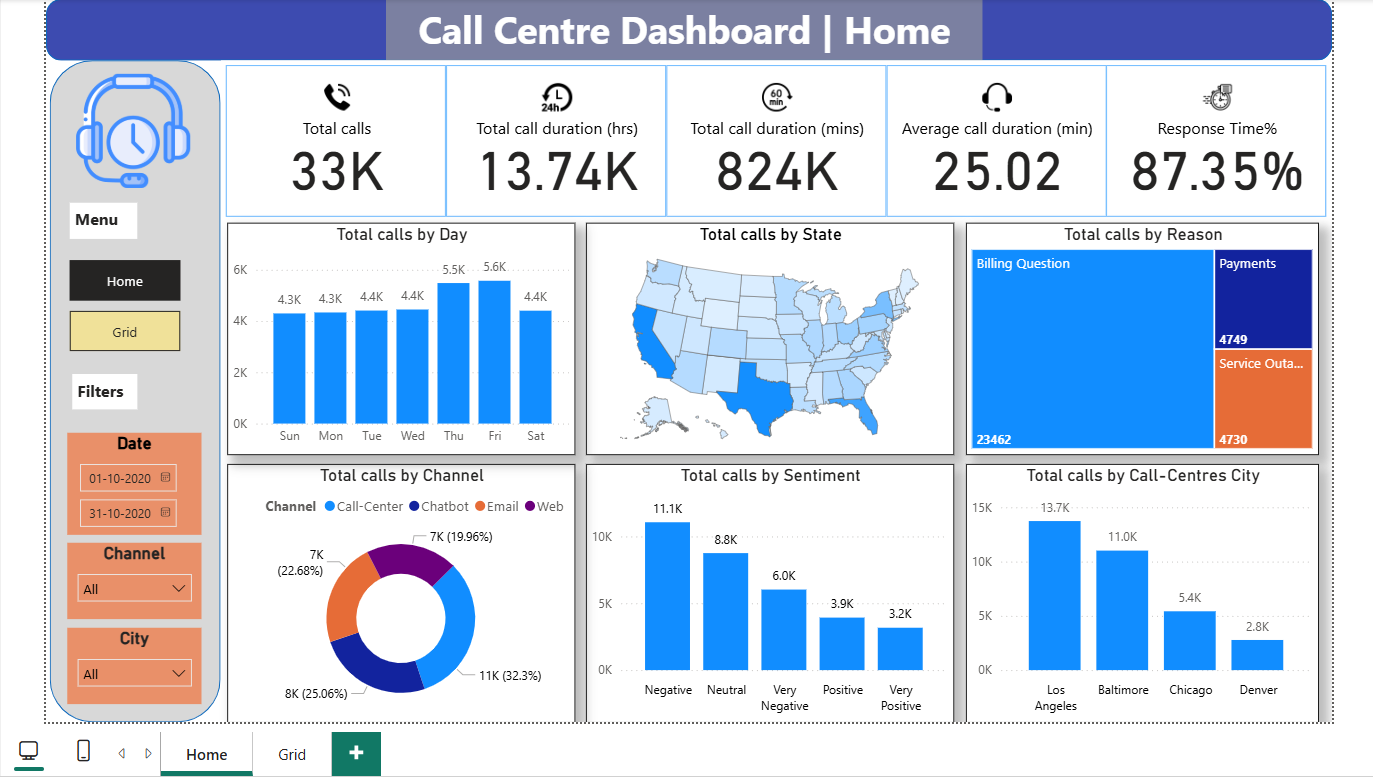

The dashboard page shown, as its layout file describes it:
{"tool":"powerbi","page":{"name":"Home","canvas":[1280,720],"ordinal":0},"visuals":[{"type":"shape","box":[0,0,1280,61.2],"z":0},{"type":"shape","box":[3.8,61.2,170,658.8],"z":1000},{"type":"textbox","box":[338.8,0,593.8,61.2],"z":2000},{"type":"cardVisual","title":"Total ","fields":{"Data":["All Measures.Total Calls","All Measures.Total Call Duration (hrs)","All Measures.Total Call Duration(in min)","All Measures.Average Call Duration (min)","All Measures.Response Time%"]},"box":[173.8,61.2,1106.2,161.2],"z":3000},{"type":"shapeMap","title":"Total calls by State","fields":{"Category":["Call Center_Call Center.State"],"Value":["All Measures.Total Calls"]},"box":[537.5,222.5,366.2,231.2],"z":4000},{"type":"treemap","fields":{"Group":["Call Center_Call Center.Reason"],"Values":["All Measures.Total calls"]},"box":[915,222.5,351.2,231.2],"z":5000},{"type":"columnChart","fields":{"Category":["Call Center_Call Center.Sentiment"],"Y":["All Measures.Total calls"]},"box":[537.5,462.5,366.2,257.5],"z":6000},{"type":"columnChart","fields":{"Category":["Call Center_Call Center.Call-Centres City"],"Y":["All Measures.Total calls"]},"box":[915,462.5,351.2,257.5],"z":7000},{"type":"donutChart","fields":{"Category":["Call Center_Call Center.Channel"],"Y":["All Measures.Total calls"]},"box":[180,462.5,346.2,257.5],"z":8000},{"type":"columnChart","fields":{"Category":["Date Table.Day"],"Y":["All Measures.Total calls"]},"box":[180,222.5,346.2,231.2],"z":9000},{"type":"slicer","title":"Date","fields":{"Values":["Call Center_Call Center.Call Timestamp"]},"box":[21.2,431.2,133.8,101.2],"z":10000},{"type":"slicer","title":"Channel","fields":{"Values":["Call Center_Call Center.Channel"]},"box":[21.2,541.2,133.8,76.2],"z":11000},{"type":"slicer","title":"City","fields":{"Values":["Call Center_Call Center.City"]},"box":[21.2,626.2,133.8,76.2],"z":12000},{"type":"textbox","box":[24.3,202.3,67.5,36.2],"z":13000},{"type":"textbox","box":[26.2,373.8,65,35],"z":14000},{"type":"pageNavigator","box":[23.8,260,110,91.2],"z":15000},{"type":"image","box":[21.1,69.7,130.6,123.2],"z":16000}]}

Visuals, with their boxes in screenshot pixels (x1, y1, x2, y2):
shape: detection(39, 0, 1345, 59)
shape: detection(43, 59, 217, 731)
textbox: detection(385, 0, 991, 59)
"Total " cardVisual: detection(217, 59, 1345, 223)
"Total calls by State" shapeMap: detection(588, 223, 961, 459)
treemap - Call Center_Call Center.Reason x All Measures.Total calls: detection(973, 223, 1331, 459)
columnChart - Call Center_Call Center.Sentiment x All Measures.Total calls: detection(588, 468, 961, 731)
columnChart - Call Center_Call Center.Call-Centres City x All Measures.Total calls: detection(973, 468, 1331, 731)
donutChart - Call Center_Call Center.Channel x All Measures.Total calls: detection(223, 468, 576, 731)
columnChart - Date Table.Day x All Measures.Total calls: detection(223, 223, 576, 459)
"Date" slicer: detection(61, 436, 197, 540)
"Channel" slicer: detection(61, 549, 197, 626)
"City" slicer: detection(61, 635, 197, 713)
textbox: detection(64, 203, 133, 240)
textbox: detection(66, 378, 132, 414)
pageNavigator: detection(64, 262, 176, 355)
image: detection(61, 68, 194, 193)
